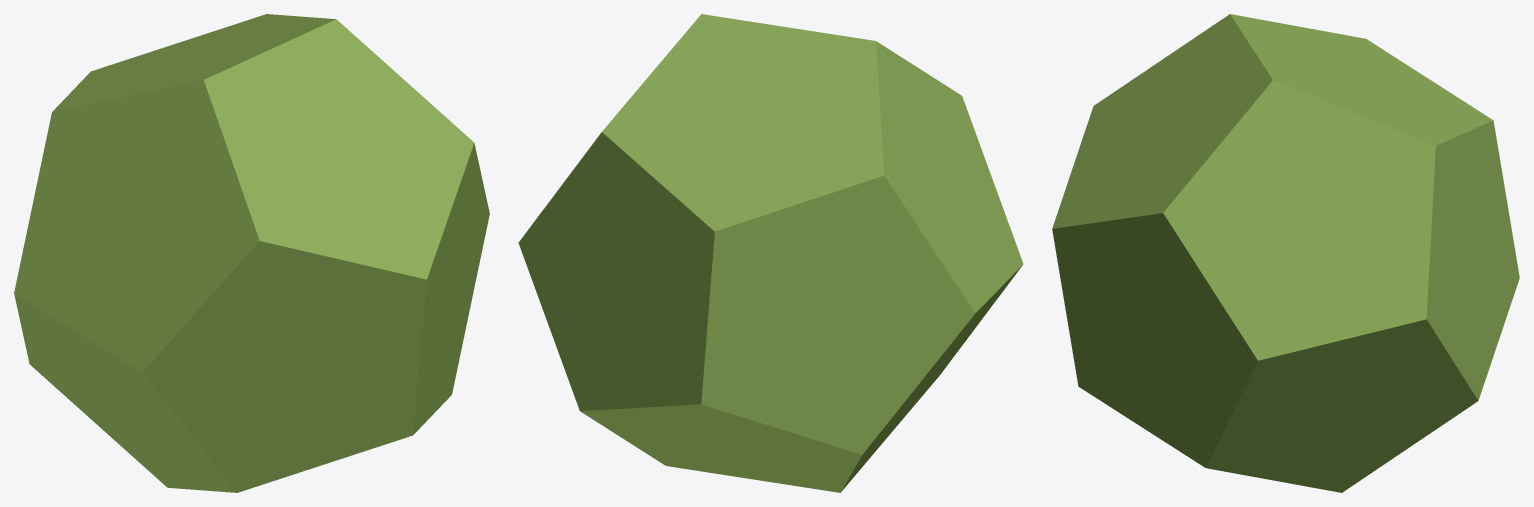
File: canopy-2.glb
The picture shows the model from 3 angles, left to right: view 1: azimuth 30°, elevation 25°; view 2: azimuth 150°, elevation 25°; view 3: azimuth 270°, elevation 25°; orthographic projection. The views are drawn at different scales.
Parts seen in each view (by area): view 1: Canopy 2; view 2: Canopy 2; view 3: Canopy 2.
Boxes of the visible parts, box(x1,y1,x2,y2) form: Canopy 2: box(14, 14, 489, 492); Canopy 2: box(518, 14, 1023, 492); Canopy 2: box(1052, 14, 1519, 492).
Bounding box in the file's own units: 27.88 × 26.29 × 26.61.
